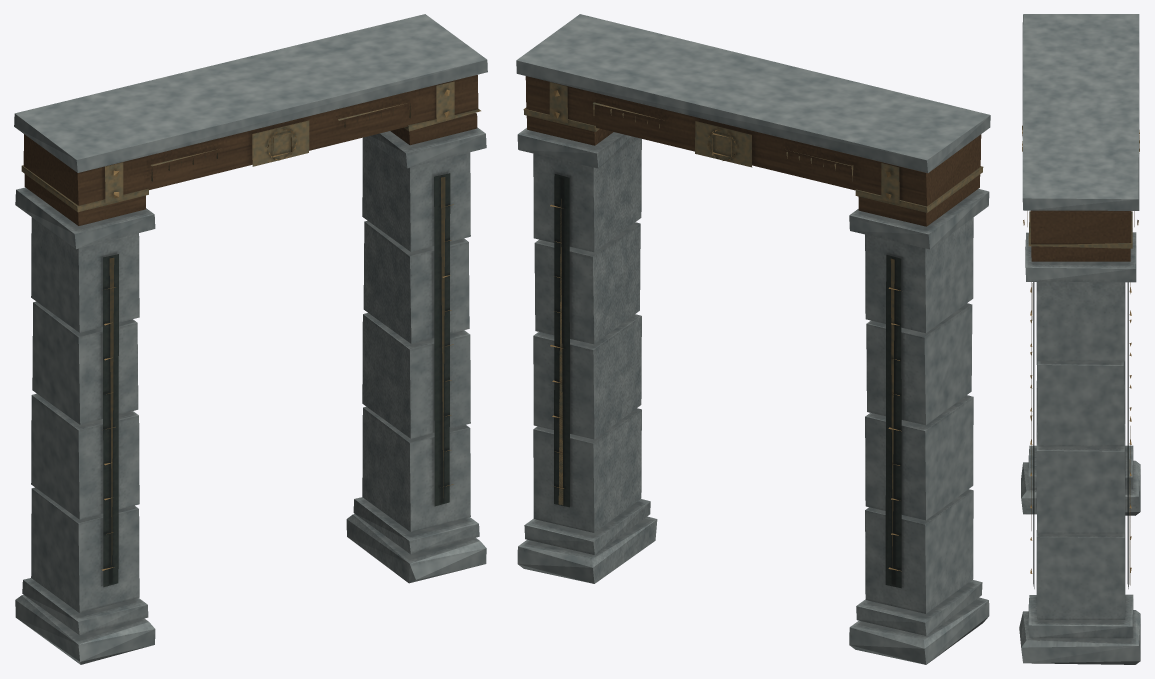
The model's file is PortalGate_LOD2.fbx.
The picture shows the model from 3 angles, left to right: view 1: azimuth 30°, elevation 25°; view 2: azimuth 150°, elevation 25°; view 3: azimuth 270°, elevation 25°; orthographic projection. The views are drawn at different scales.
Parts seen in each view (by area): view 1: PortalGate_Mesh; view 2: PortalGate_Mesh; view 3: PortalGate_Mesh.
Boxes of the visible parts, box(x1,y1,x2,y2) form: PortalGate_Mesh: box(14, 14, 487, 664); PortalGate_Mesh: box(516, 14, 990, 664); PortalGate_Mesh: box(1019, 14, 1140, 664).
Bounding box in the file's own units: 2.77 × 3.27 × 0.7679.
